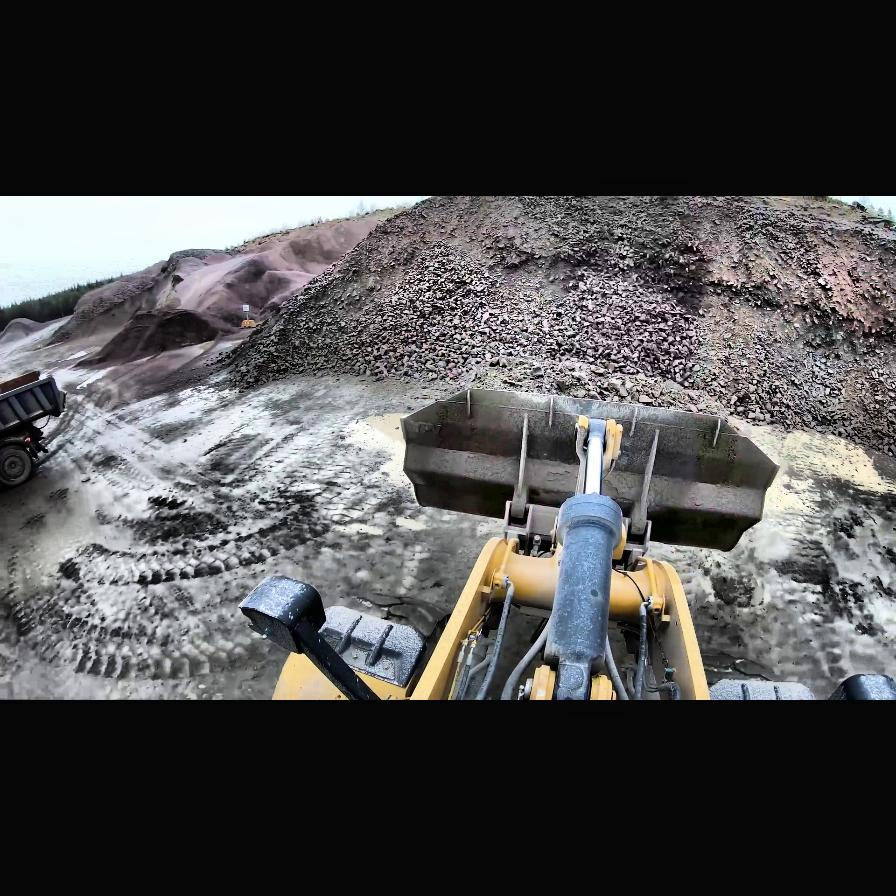anchor: (576, 415, 624, 489)
pile of gravel: (202, 196, 896, 458), (68, 304, 238, 370), (184, 254, 320, 328), (0, 318, 48, 348)
